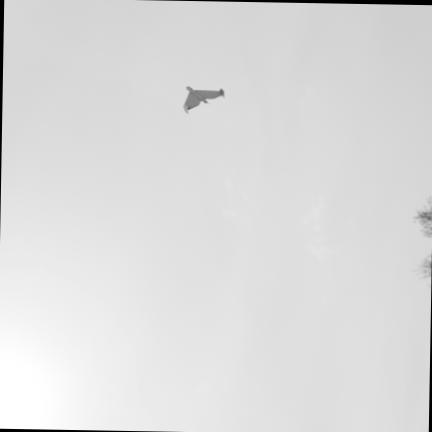Shahed: (183, 85, 223, 112)
